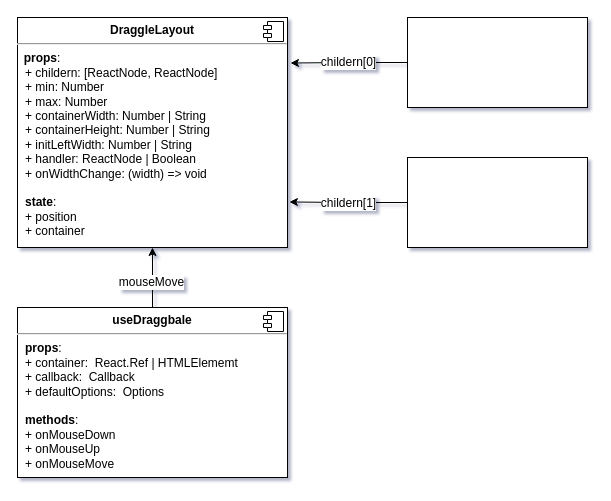
Image size: 611x501. Some labels were removed from this diagram. The shapes that lost their labels are listed below. From the top down, each one's centre as x and y in pixels, then its label:
pixel 497 62: «Slot-1» ReactNode
pixel 497 202: «Slot-2» ReactNode
